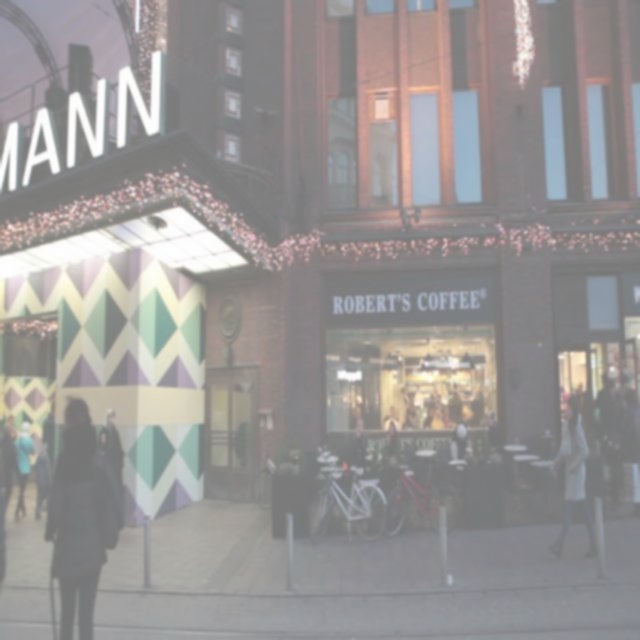pessoa: (43, 396, 122, 639), (546, 396, 600, 560), (0, 424, 24, 539), (620, 387, 640, 520), (12, 419, 36, 522), (102, 406, 126, 489), (606, 378, 626, 462), (448, 422, 472, 486), (34, 440, 52, 520), (480, 408, 502, 471), (591, 372, 610, 440), (349, 416, 369, 479), (2, 412, 18, 487), (422, 404, 445, 456), (380, 414, 402, 466), (92, 426, 111, 482), (42, 400, 56, 470), (472, 382, 489, 426), (573, 381, 586, 438), (460, 406, 476, 450), (0, 484, 6, 596), (448, 381, 462, 424), (614, 372, 634, 400), (405, 390, 418, 430), (386, 420, 398, 463), (428, 408, 446, 431), (354, 406, 366, 438), (604, 378, 618, 402), (426, 398, 436, 431), (384, 404, 399, 422), (408, 413, 420, 431), (430, 391, 442, 406), (461, 380, 472, 396), (352, 393, 364, 407), (444, 381, 452, 399)
